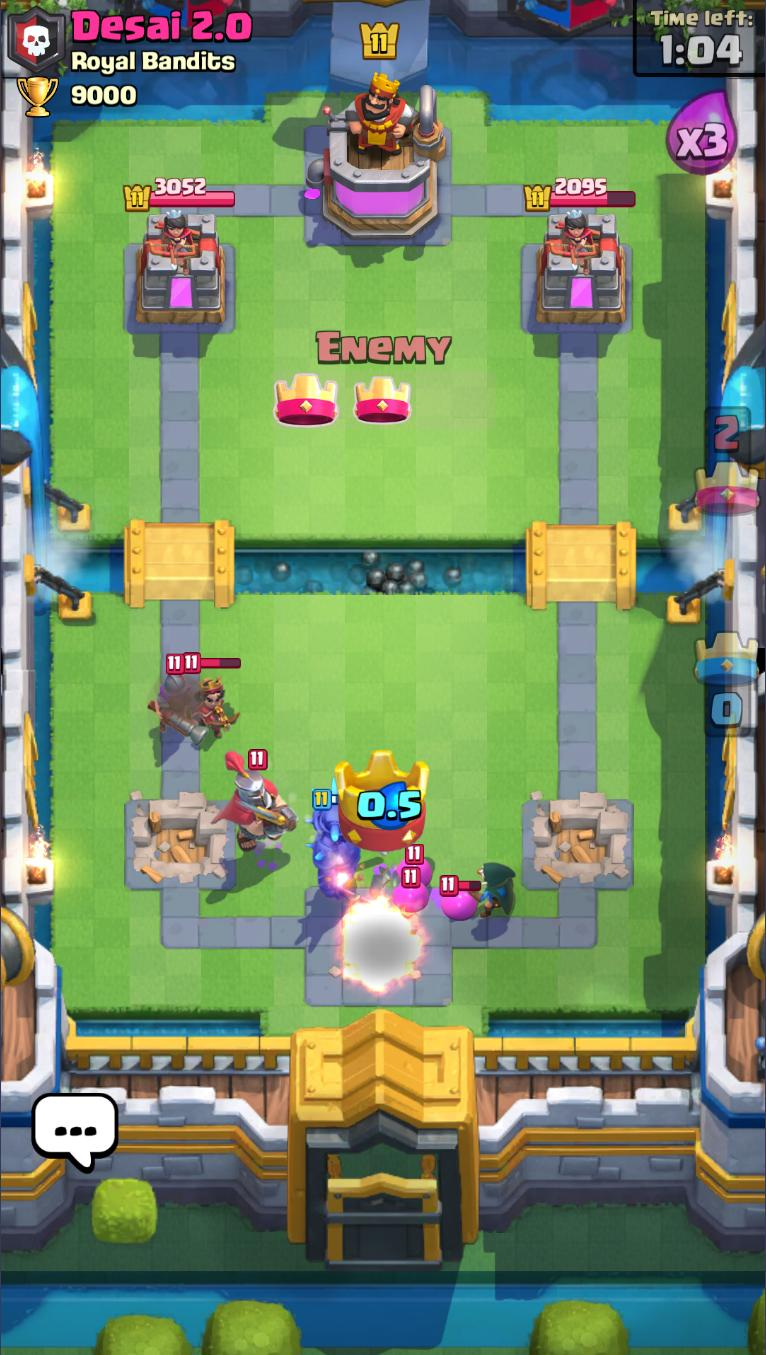ElixirGolemMicro: (439, 874, 480, 922), (390, 871, 431, 919), (397, 844, 433, 886)
EnemyTower: (536, 215, 633, 333), (136, 215, 231, 333)
KingTower: (310, 77, 453, 248)
LittlePrince: (183, 653, 243, 741)
LittlePrinceGuard: (214, 748, 299, 854)
Musketeer: (148, 653, 209, 747)
MyBandit: (476, 858, 521, 923)
MyKingTowerBrocken: (309, 858, 452, 1009)
MyPekka: (312, 780, 358, 906)
MyPrincessTowerBrocken: (523, 793, 638, 892), (123, 795, 237, 890)
PrincessTower: (550, 214, 605, 276), (151, 215, 206, 275)
TowerPrincessHP: (527, 180, 641, 217), (126, 182, 240, 219)
